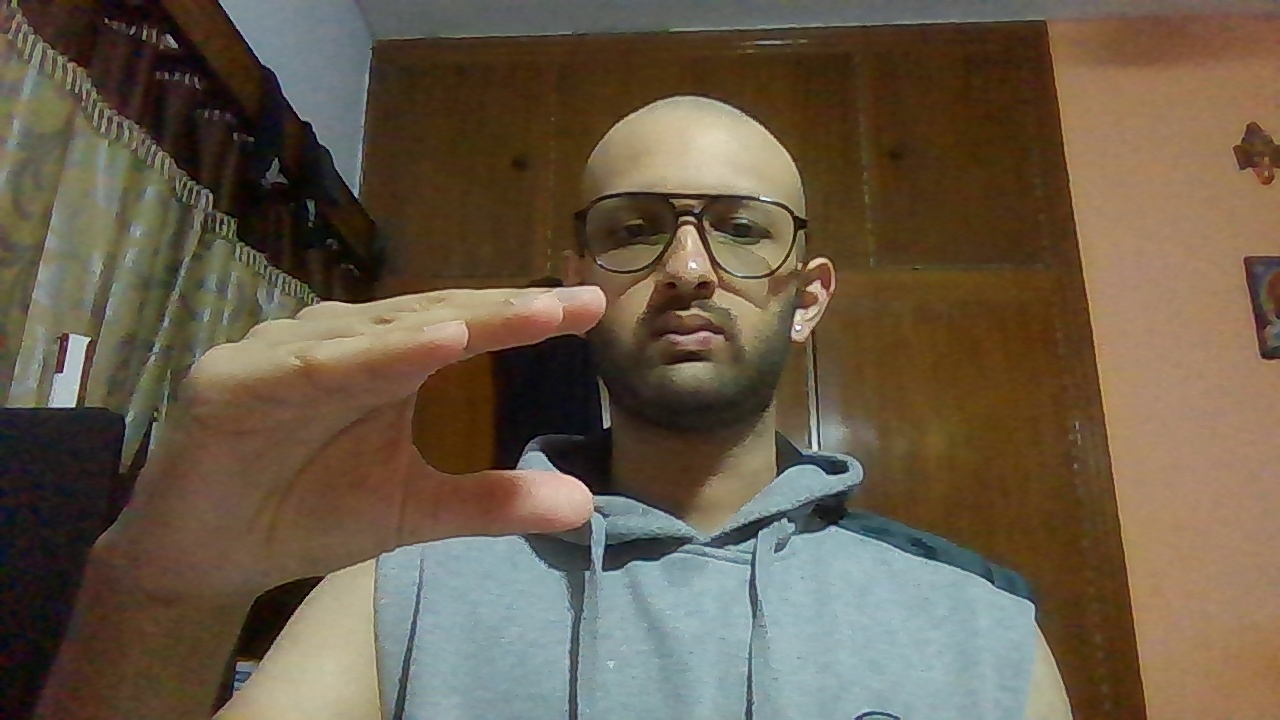No: (106, 277, 608, 573)
